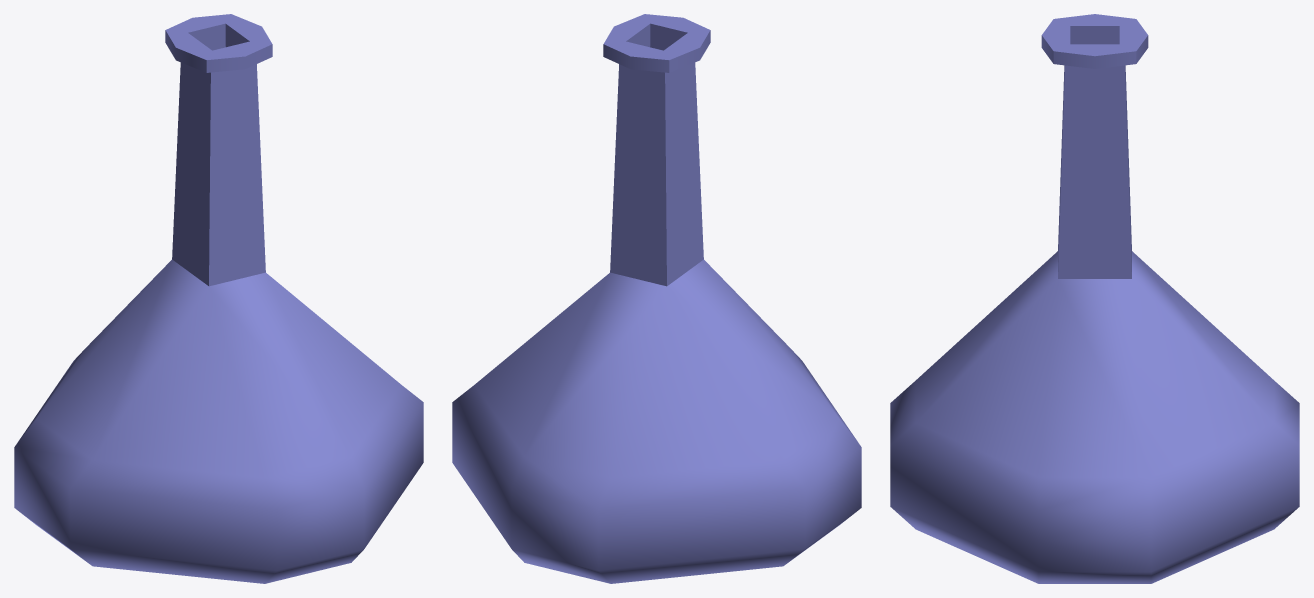
The model's file is potionSort.fbx.
3 views of the same model, side by side, from view 1: azimuth 30°, elevation 25°; view 2: azimuth 150°, elevation 25°; view 3: azimuth 270°, elevation 25° (orthographic).
Parts seen in each view (by area): view 1: pCube1; view 2: pCube1; view 3: pCube1.
Part boxes in pixels (box(x1,y1,x2,y2)): pCube1: box(14, 14, 423, 583); pCube1: box(452, 14, 861, 583); pCube1: box(890, 14, 1299, 583).
Bounding box in the file's own units: 72.48 × 92.42 × 72.48.
